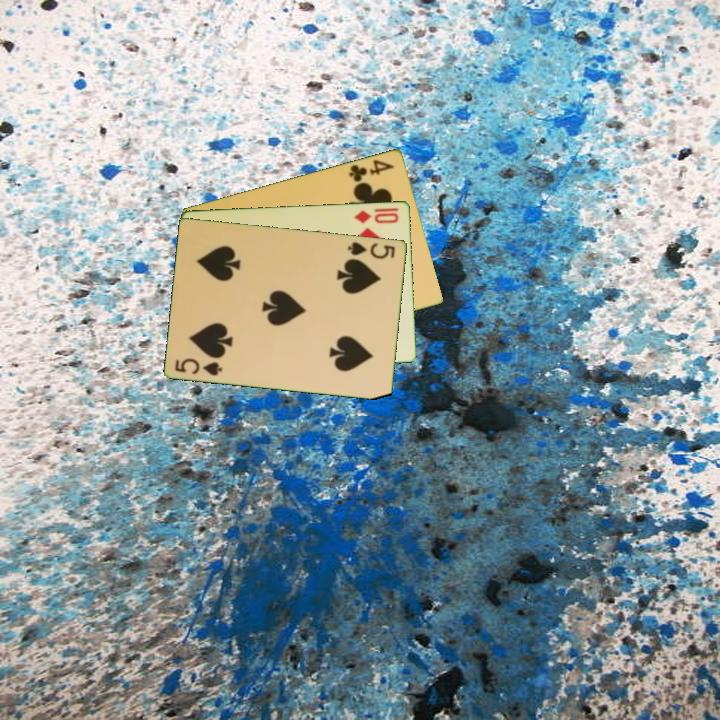10d: (351, 207, 402, 226)
4c: (346, 156, 397, 185)
5s: (344, 238, 398, 262), (172, 355, 225, 378)
